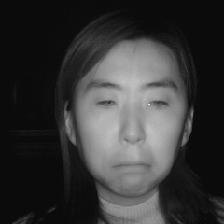sad: (52, 23, 200, 195)
